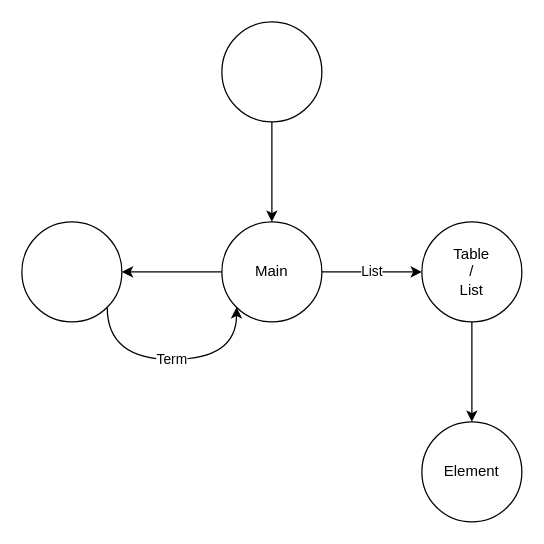
Some shapes in this 544 by 544 pixel diagram are drawn without their labels. The shapes that lost their labels are listed below. From the top down, each one's centre as x and y in pixels, then its label:
the point at 271,71: App
the point at 71,271: Search
